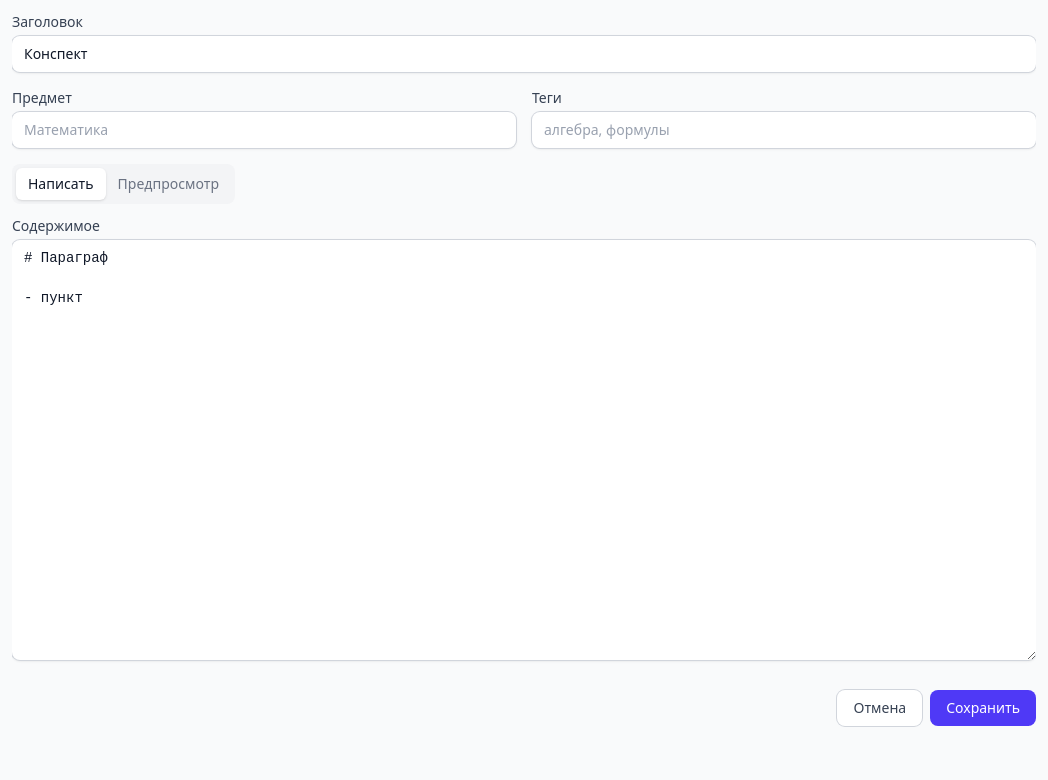
Test: NoteForm › shows the markdown preview via the mobile tab switch
Check: the text box labelled "Содержимое" is shown, box [12,240,1036,660]
Click the button "Предпросмотр" at (168, 184), box [106,168,231,200]
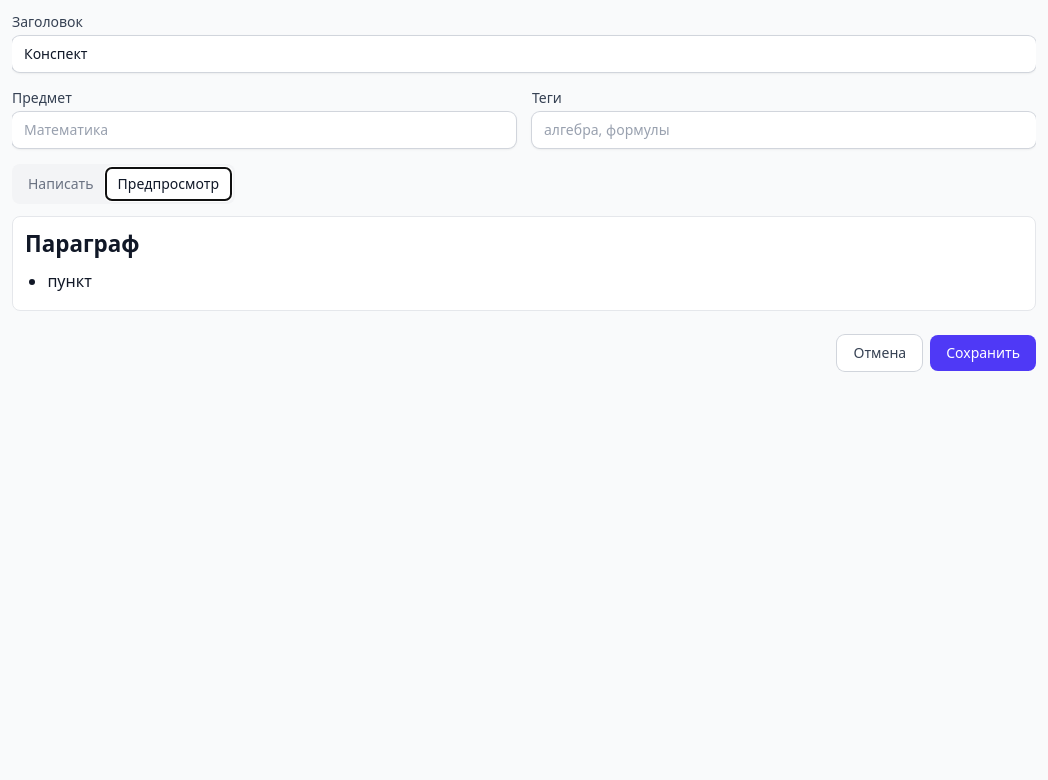
Check: the heading "Параграф" is shown, box [25,228,140,259]
Check: the list item "пункт" is shown, box [47,270,92,292]
